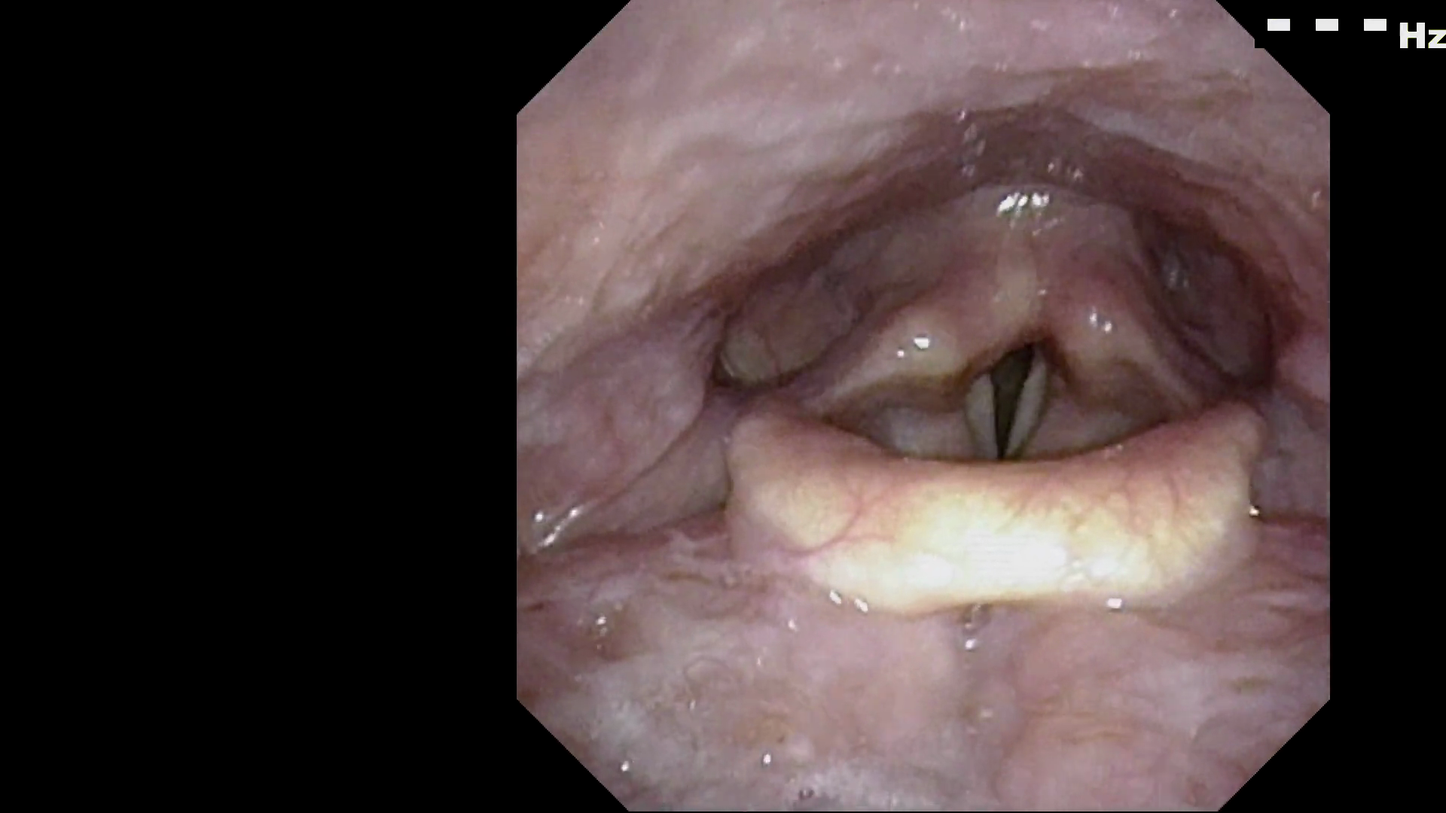epiglottis: (701, 398, 1262, 635)
trachea: (934, 309, 1086, 498)
